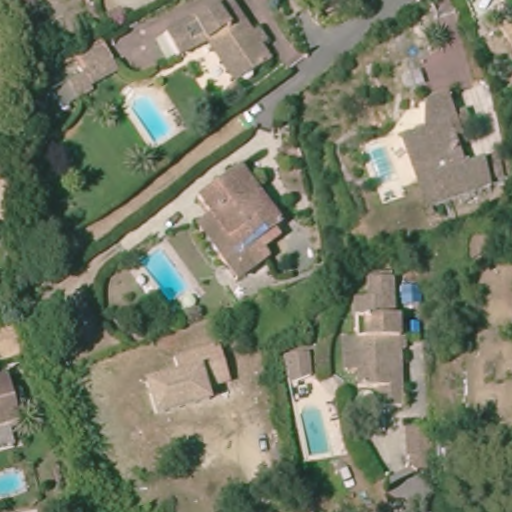pool: (124, 89, 179, 149), (137, 248, 190, 309), (293, 399, 338, 462), (369, 145, 400, 187), (1, 461, 27, 501)
